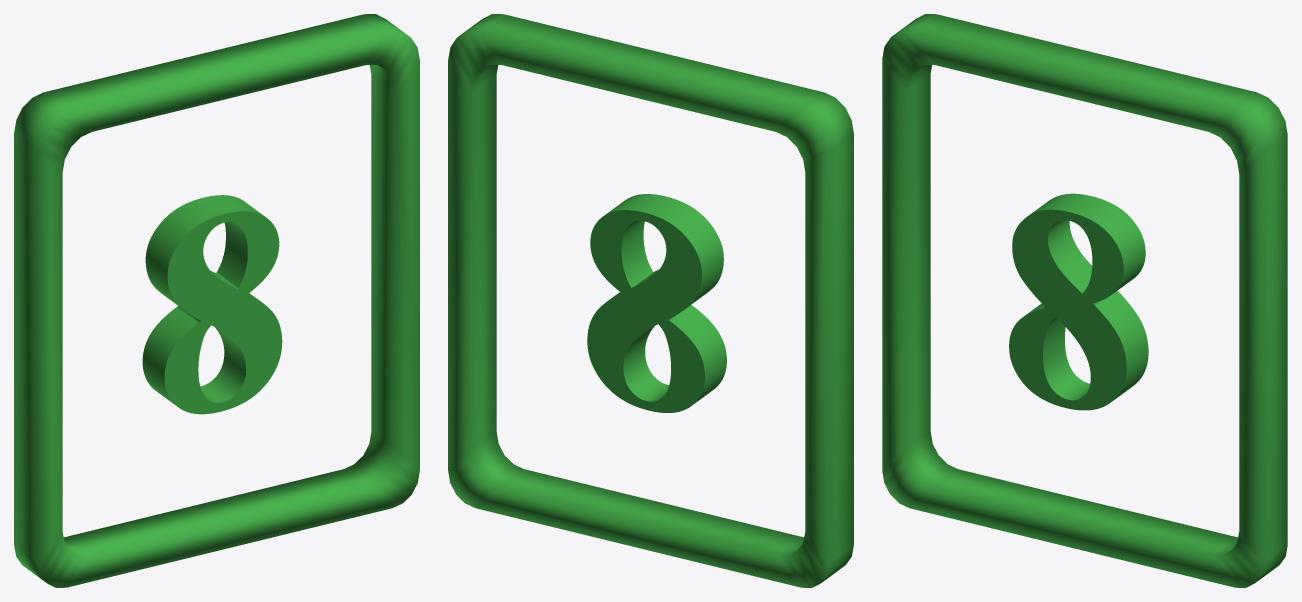
File: Number_8.gltf
The picture shows the model from 3 angles, left to right: view 1: azimuth 30°, elevation 25°; view 2: azimuth 150°, elevation 25°; view 3: azimuth 330°, elevation 25°; orthographic projection.
Parts seen in each view (by area): view 1: Numbers.009; view 2: Numbers.009; view 3: Numbers.009.
Part boxes in pixels (x1,y1,x2,y2): Numbers.009: (14, 14, 419, 587); Numbers.009: (448, 14, 853, 587); Numbers.009: (882, 14, 1287, 587).
Bounding box in the file's own units: 1 × 1.2 × 0.1143.
